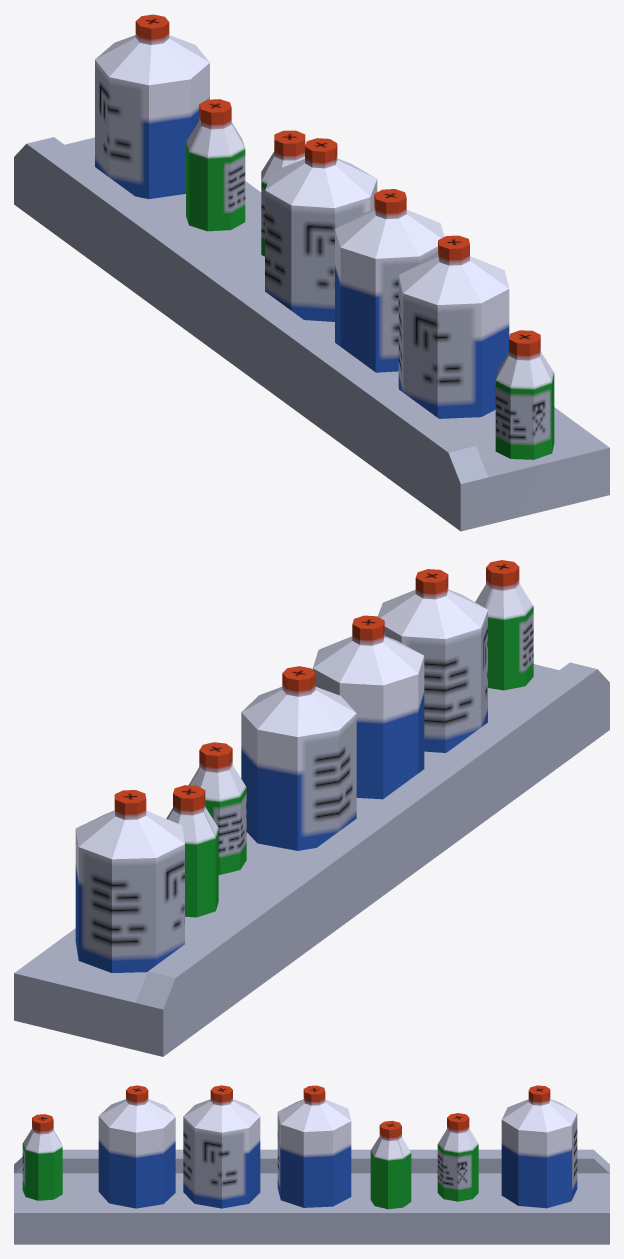
File: WallShelf.fbx
3 renders of one model, top to bottom at view 1: azimuth 30°, elevation 25°; view 2: azimuth 150°, elevation 25°; view 3: azimuth 270°, elevation 25°, orthographic. The views are drawn at different scales.
Parts seen in each view (by area): view 1: Куб.157; view 2: Куб.157; view 3: Куб.157.
Boxes of the visible parts, x1=… form: Куб.157: x1=14, y1=14, x2=609, y2=531; Куб.157: x1=14, y1=560, x2=609, y2=1056; Куб.157: x1=14, y1=1085, x2=609, y2=1244.
Size of the model in its own units: 38.55 by 49.57 by 200.
